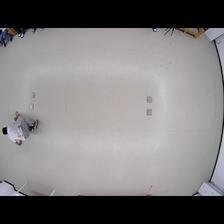fall: (1, 110, 39, 144)
